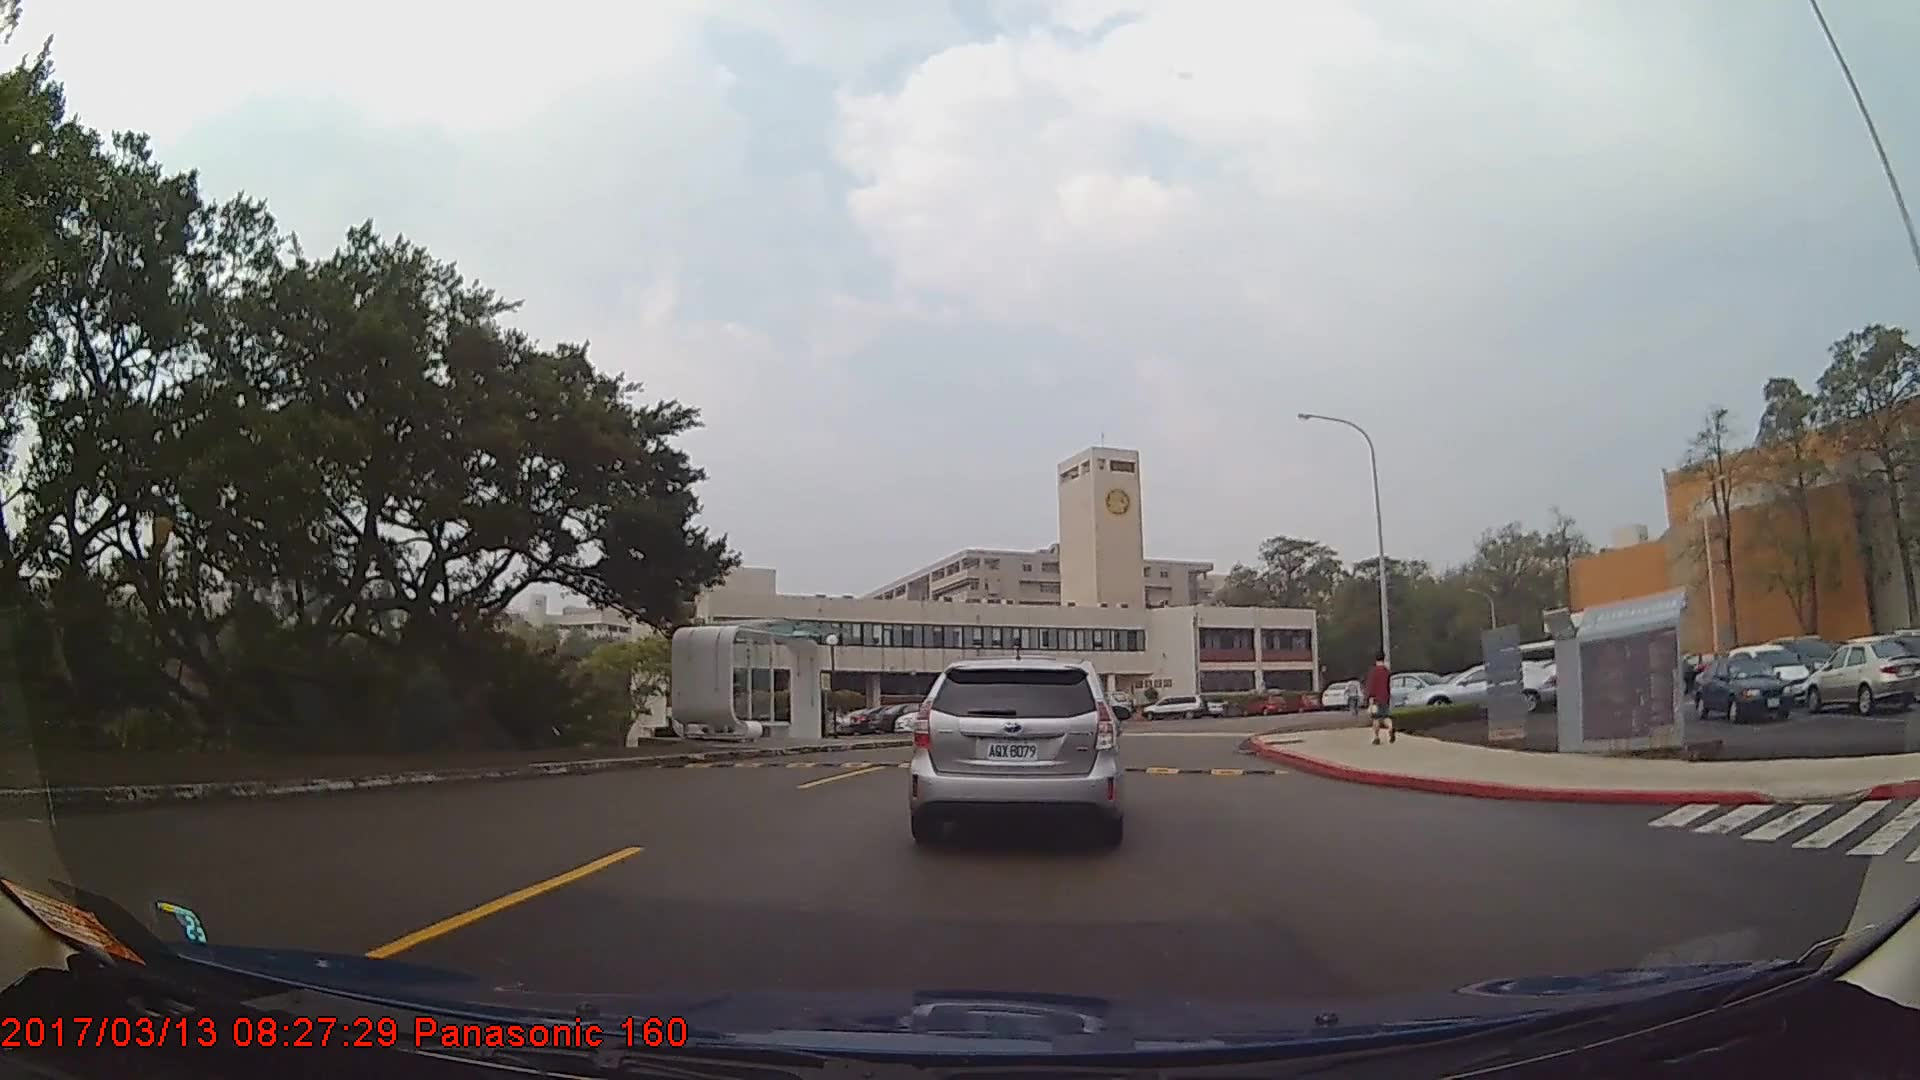pedestrian: (1365, 652, 1396, 750)
vehicle: (909, 656, 1118, 845), (1806, 636, 1919, 715), (1402, 660, 1555, 713), (1690, 654, 1790, 720), (1726, 641, 1811, 706), (1142, 694, 1207, 722), (1323, 679, 1361, 711)
